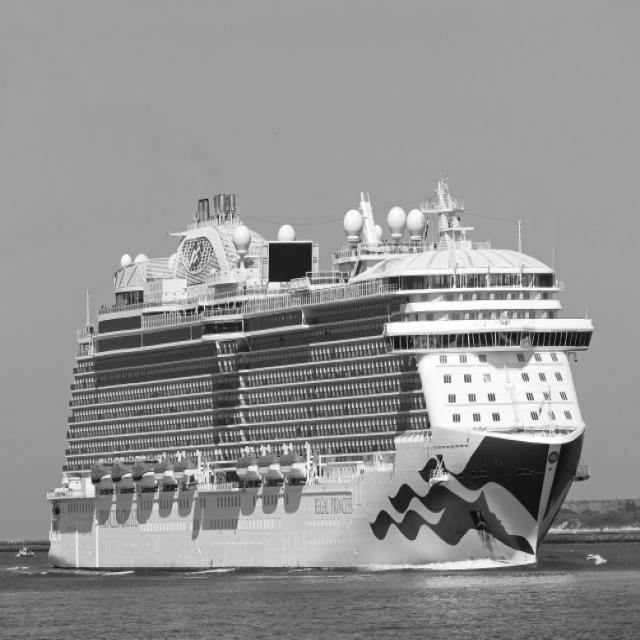cruises: (46, 173, 600, 587)
